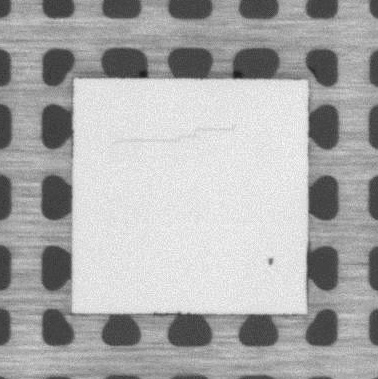DIE_INK: (266, 256, 275, 268)
